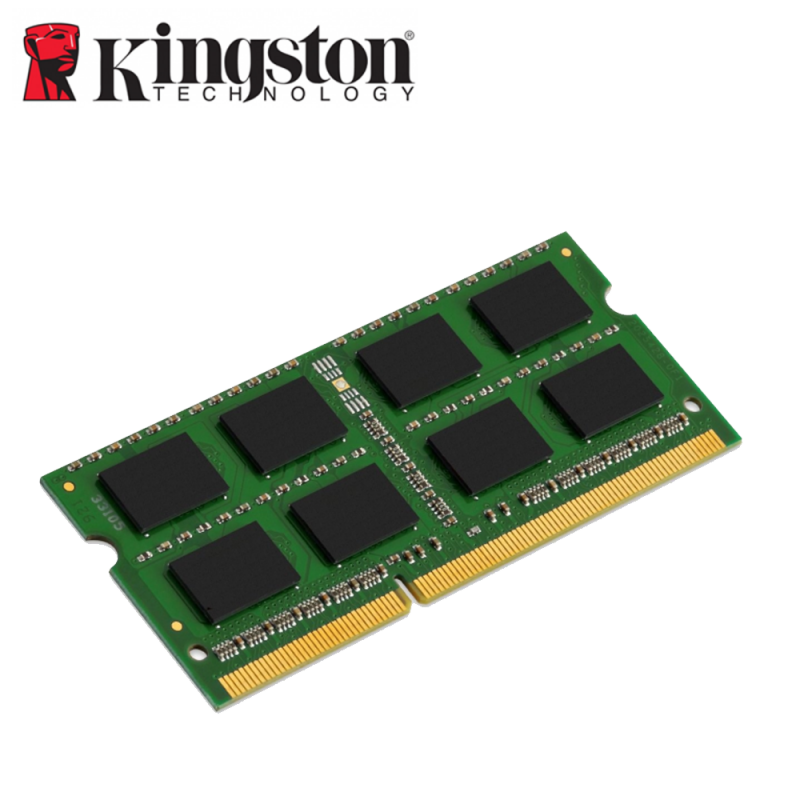Notebook RAM: (21, 212, 758, 728)
